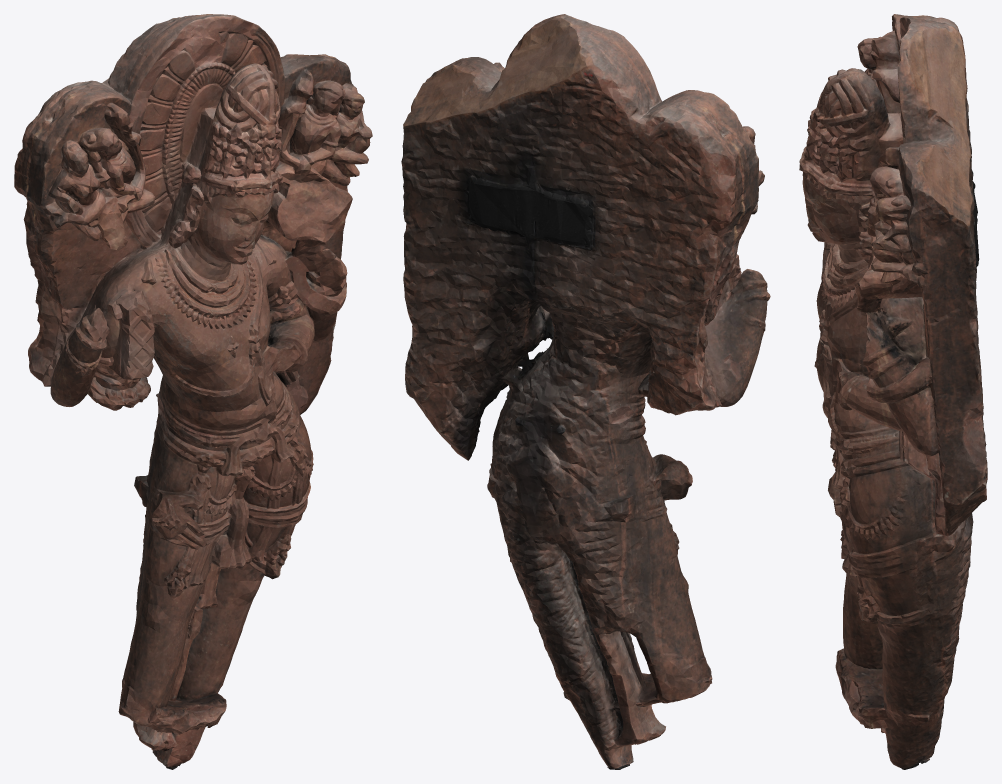
The model's file is Mia_005094_64kMesh.obj.
The picture shows the model from 3 angles, left to right: view 1: azimuth 30°, elevation 25°; view 2: azimuth 150°, elevation 25°; view 3: azimuth 270°, elevation 25°; orthographic projection. The views are drawn at different scales.
Bounding box in the file's own units: 0.5681 × 1.23 × 0.277.
Materials: 1 (1 with a texture image).
